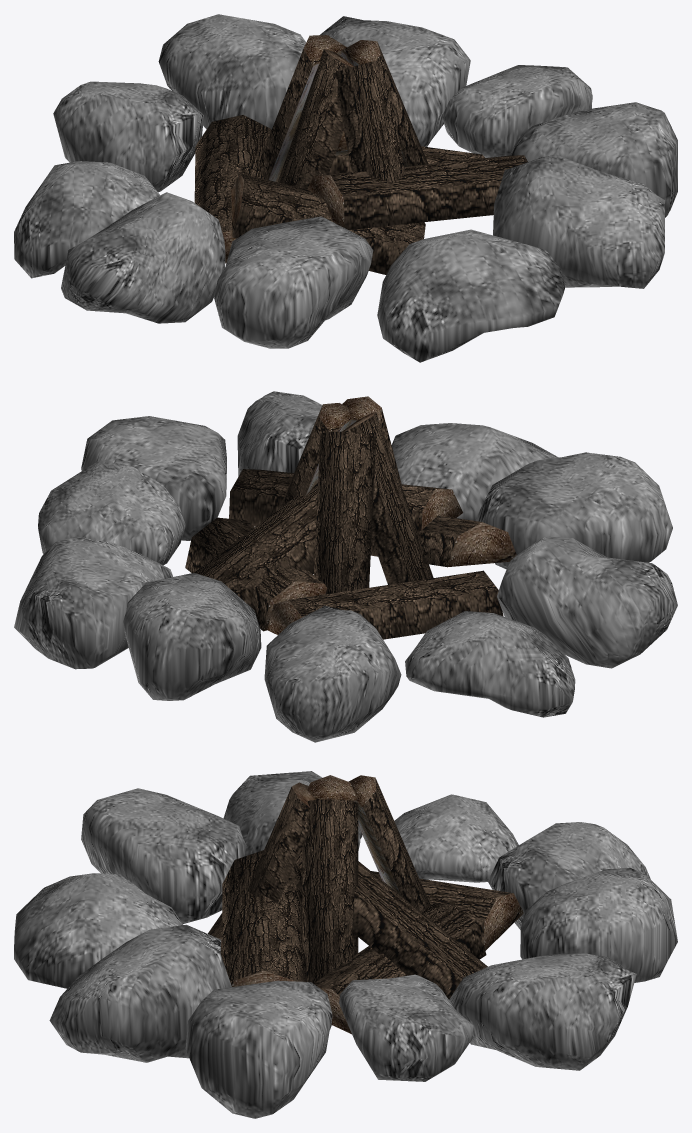
File: Camp Fire.fbx
3 renders of one model, top to bottom at view 1: azimuth 30°, elevation 25°; view 2: azimuth 150°, elevation 25°; view 3: azimuth 270°, elevation 25°, orthographic.
Visible parts, largest first — view 1: Camp Fire; view 2: Camp Fire; view 3: Camp Fire.
Part boxes in pixels (x1,y1,x2,y2): Camp Fire: (14, 14, 677, 362); Camp Fire: (14, 391, 677, 742); Camp Fire: (14, 771, 677, 1118).
Size of the model in its own units: 1.42 by 0.4695 by 1.39.
